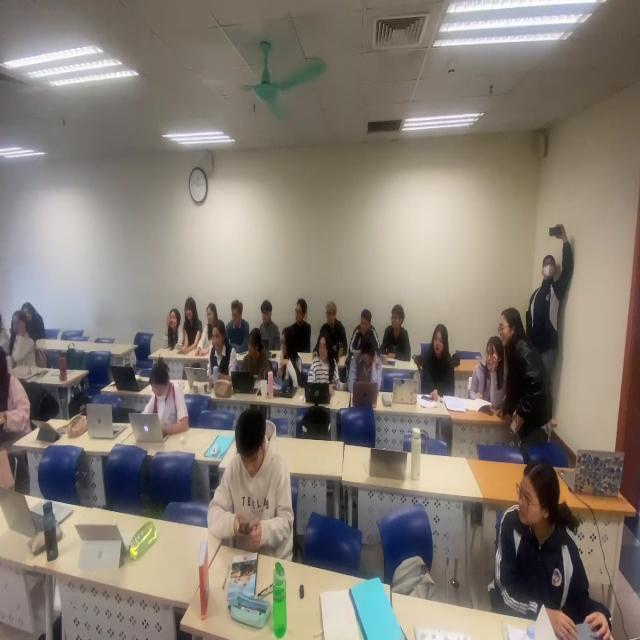raise_head: (423, 320, 455, 402), (204, 319, 237, 387), (306, 330, 340, 392), (238, 326, 270, 387), (382, 302, 413, 364), (321, 297, 350, 356), (351, 304, 382, 358), (8, 309, 36, 366), (287, 296, 314, 349), (228, 295, 251, 352), (182, 296, 203, 354), (199, 303, 220, 355), (261, 297, 282, 348), (166, 305, 185, 355)
stand: (526, 220, 575, 392), (498, 301, 555, 442)
using_computer: (139, 357, 190, 437), (348, 334, 380, 395)
using_phone: (207, 405, 296, 561)
